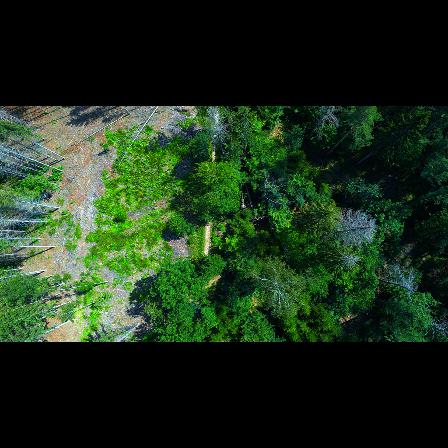Dead: (249, 258, 305, 315), (328, 206, 378, 246), (379, 266, 424, 302), (309, 106, 341, 146), (203, 106, 228, 154), (332, 250, 365, 274), (424, 314, 448, 343)
